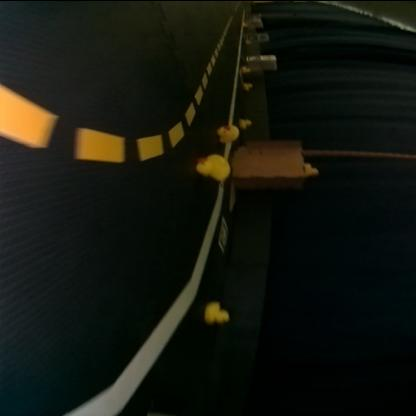Duckie: (197, 152, 230, 176), (206, 300, 228, 322), (219, 124, 240, 140), (306, 162, 319, 174), (240, 117, 252, 127), (243, 64, 251, 72), (245, 83, 252, 89)
QR code: (221, 216, 229, 252)
